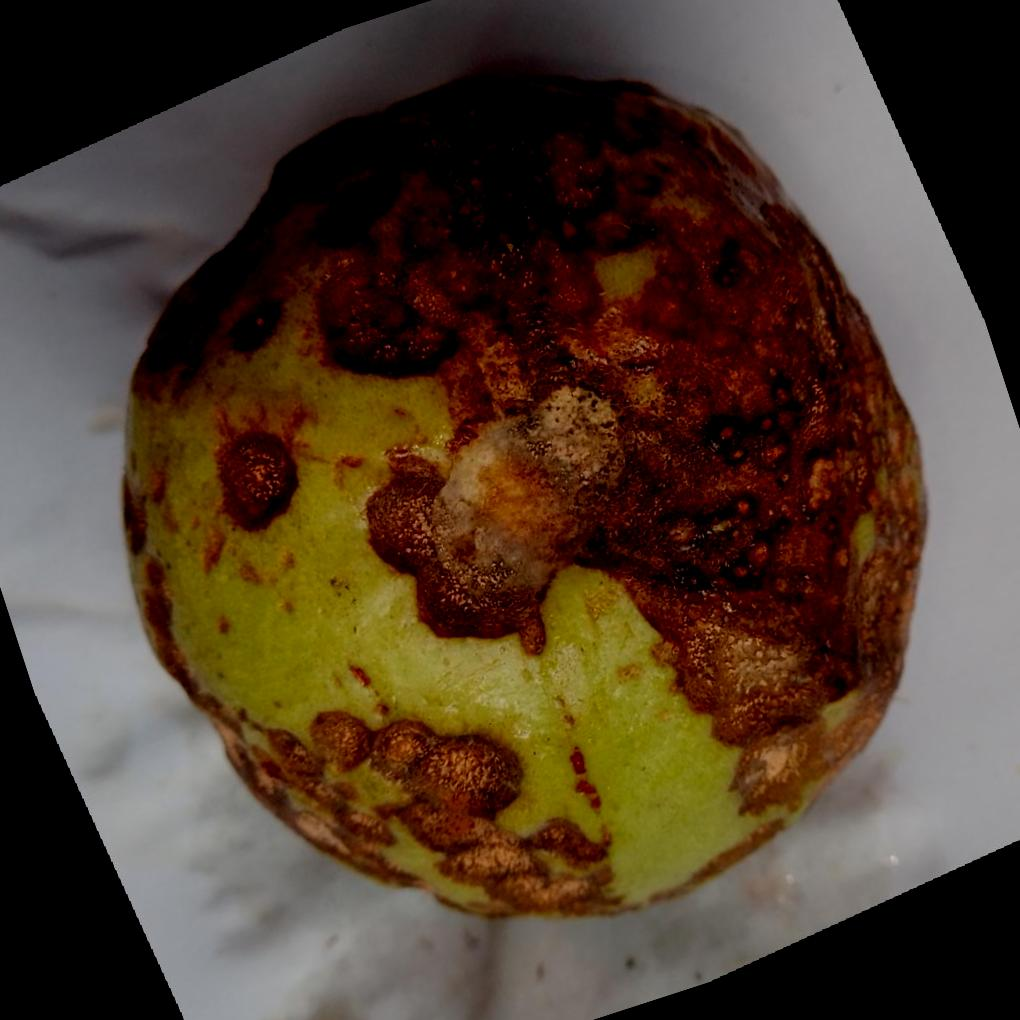FreshOrange: (115, 74, 928, 921)
